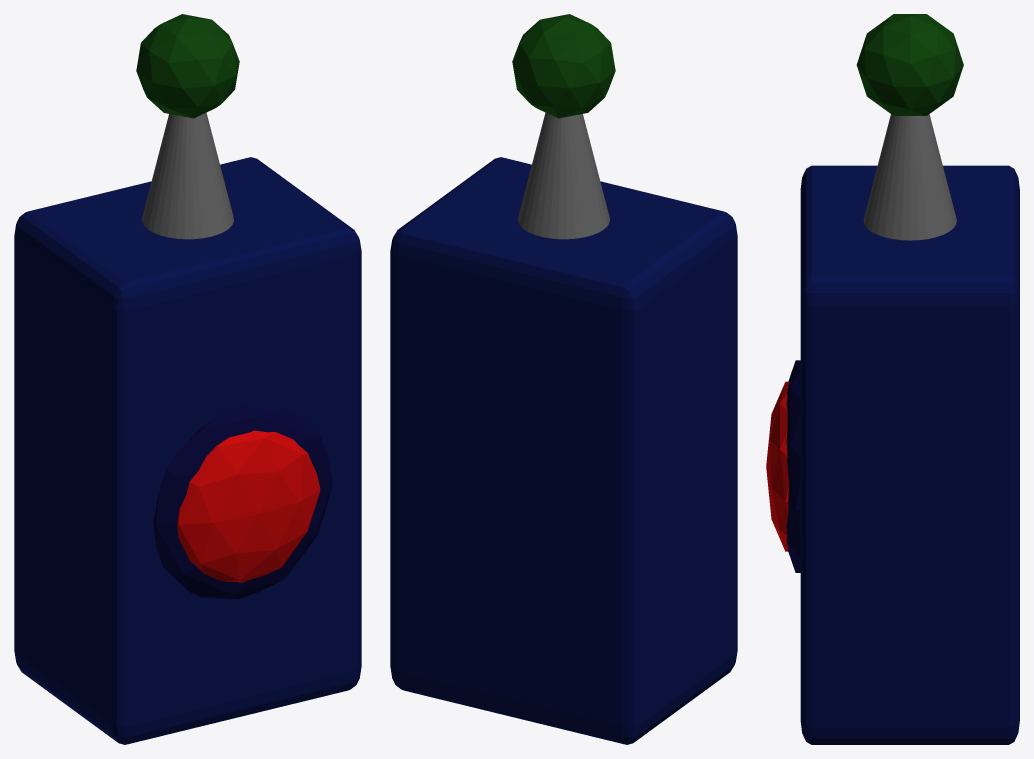
File: teleport.obj
3 renders of one model, left to right at view 1: azimuth 30°, elevation 25°; view 2: azimuth 150°, elevation 25°; view 3: azimuth 270°, elevation 25°, orthographic.
Parts seen in each view (by area): view 1: Cube, Icosphere.002, Icosphere.001, Cone, Icosphere; view 2: Cube, Cone, Icosphere; view 3: Cube, Cone, Icosphere, Icosphere.001, Icosphere.002.
Part boxes in pixels (box(x1,y1,x2,y2)): Cube: box(14, 157, 361, 744); Icosphere.002: box(177, 430, 320, 582); Icosphere.001: box(153, 404, 332, 599); Cone: box(142, 112, 233, 239); Icosphere: box(136, 14, 239, 118); Cube: box(390, 157, 737, 744); Cone: box(518, 112, 609, 239); Icosphere: box(512, 14, 615, 118); Cube: box(800, 165, 1019, 744); Cone: box(863, 114, 956, 240); Icosphere: box(856, 14, 963, 115); Icosphere.001: box(786, 360, 800, 572); Icosphere.002: box(766, 381, 788, 551).
Bounding box in the file's own units: 1.12 × 2.87 × 0.9805.
